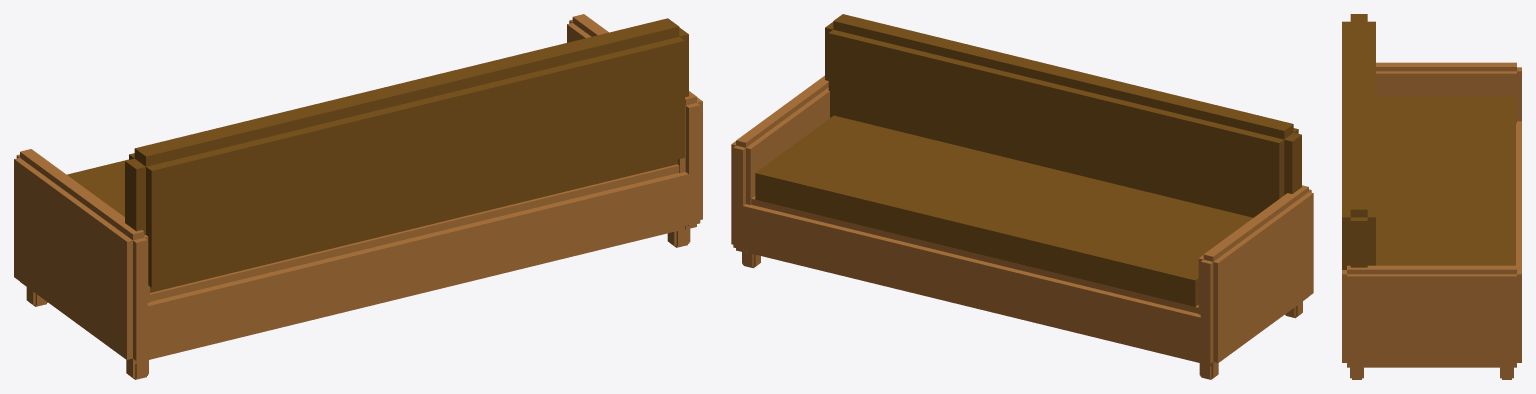
File: lihzahrd_sofa_v0.glb
3 views of the same model, side by side, from view 1: azimuth 30°, elevation 25°; view 2: azimuth 150°, elevation 25°; view 3: azimuth 270°, elevation 25° (orthographic). The views are drawn at different scales.
Visible parts, largest first — view 1: lihzahrd_sofa_v0; view 2: lihzahrd_sofa_v0; view 3: lihzahrd_sofa_v0.
Part boxes in pixels (x1,y1,x2,y2): lihzahrd_sofa_v0: (14, 14, 702, 379); lihzahrd_sofa_v0: (731, 14, 1313, 379); lihzahrd_sofa_v0: (1342, 14, 1521, 379).
Size of the model in its own units: 2.5 by 0.92 by 0.9.
